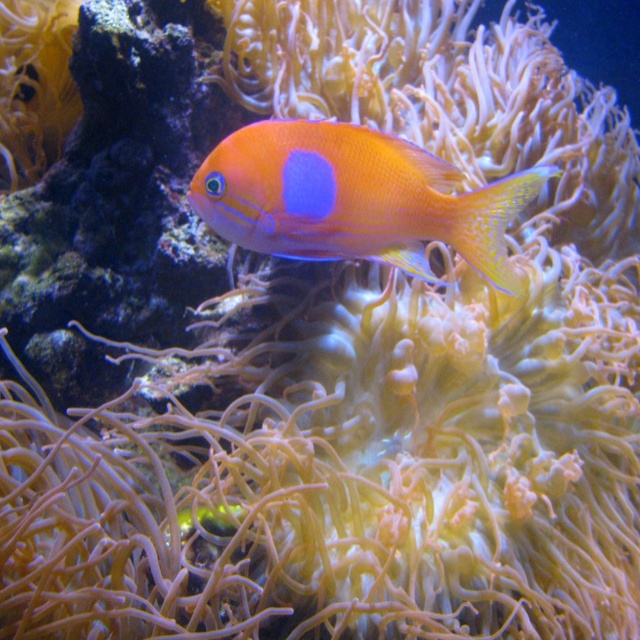Fish: (184, 117, 565, 299)
